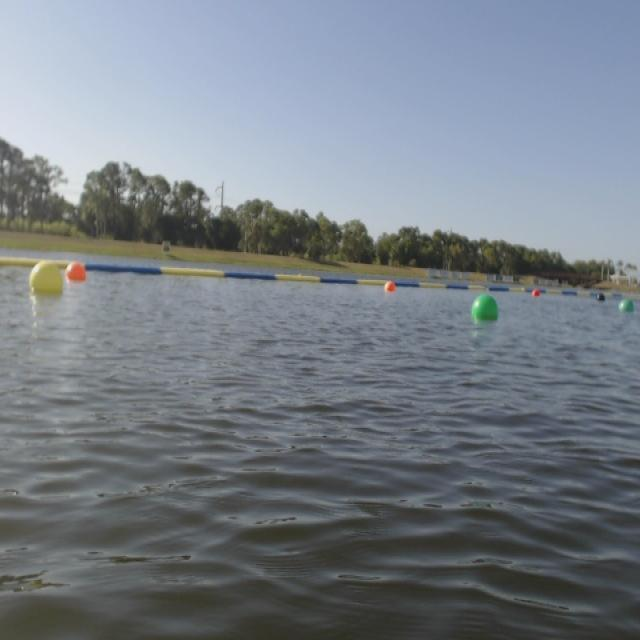Black_Buoy: (596, 289, 606, 307)
Green_Buoy: (473, 290, 496, 324), (620, 302, 634, 310)
Orange__Buoy: (69, 260, 91, 286), (383, 278, 397, 294), (528, 289, 542, 300)
